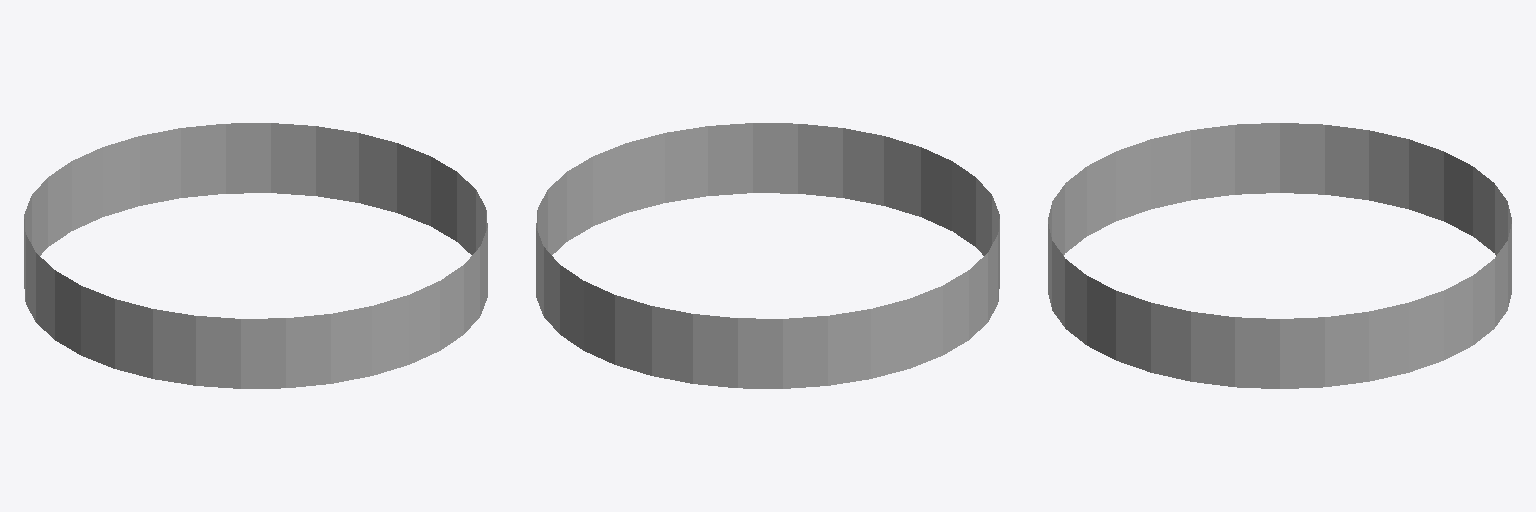
File: auraring.obj
3 renders of one model, left to right at view 1: azimuth 30°, elevation 25°; view 2: azimuth 150°, elevation 25°; view 3: azimuth 270°, elevation 25°, orthographic.
Parts seen in each view (by area): view 1: Circle; view 2: Circle; view 3: Circle.
Part boxes in pixels (bbox=[...]): Circle: bbox=[24, 123, 487, 388]; Circle: bbox=[536, 123, 999, 388]; Circle: bbox=[1048, 123, 1511, 388].
Size of the model in its own units: 3 by 0.5 by 3.